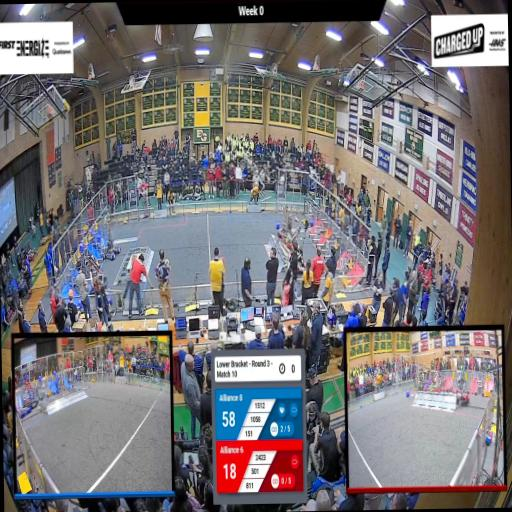robot: (86, 254, 108, 298), (276, 208, 296, 242), (96, 272, 116, 306), (102, 230, 122, 263), (282, 223, 302, 253), (292, 246, 310, 274)
